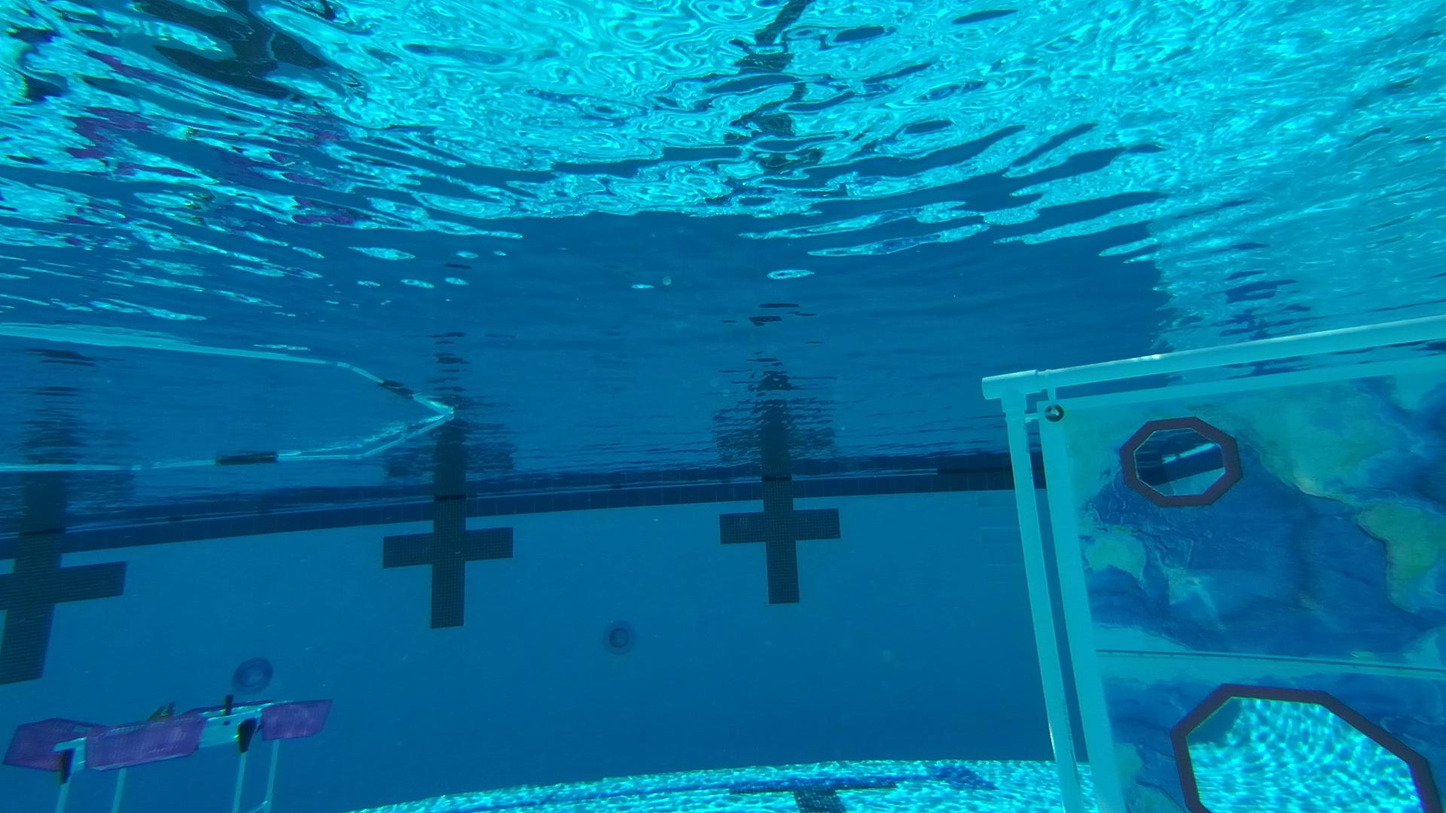coral-box-side: (30, 697, 344, 813)
red octagon: (1168, 684, 1446, 813), (1118, 416, 1246, 509)
